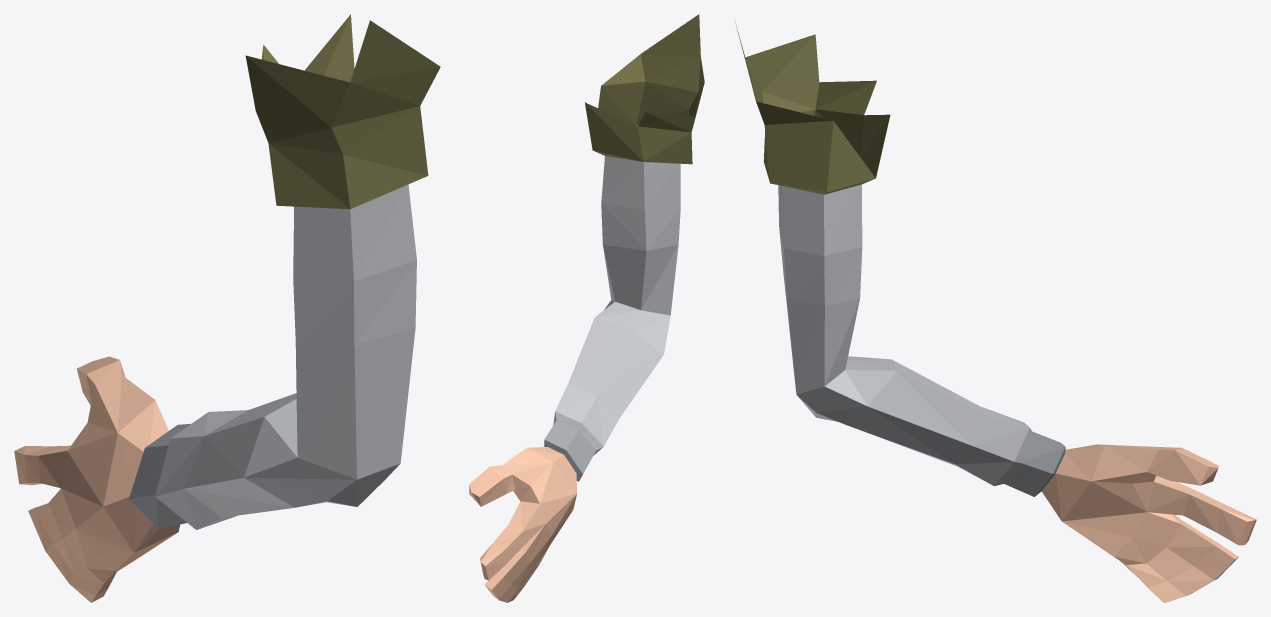
Rendered from Daughter_01_ArmL_62.obj.
The picture shows the model from 3 angles, left to right: view 1: azimuth 30°, elevation 25°; view 2: azimuth 150°, elevation 25°; view 3: azimuth 270°, elevation 25°; orthographic projection. The views are drawn at different scales.
Parts seen in each view (by area): view 1: Daughter_01_ArmL_62; view 2: Daughter_01_ArmL_62; view 3: Daughter_01_ArmL_62.
Boxes of the visible parts, x1=… form: Daughter_01_ArmL_62: x1=14, y1=14, x2=440, y2=602; Daughter_01_ArmL_62: x1=469, y1=14, x2=704, y2=602; Daughter_01_ArmL_62: x1=734, y1=20, x2=1256, y2=602.
Size of the model in its own units: 0.1622 by 0.6895 by 0.5635.
1 material, 1 textured.
